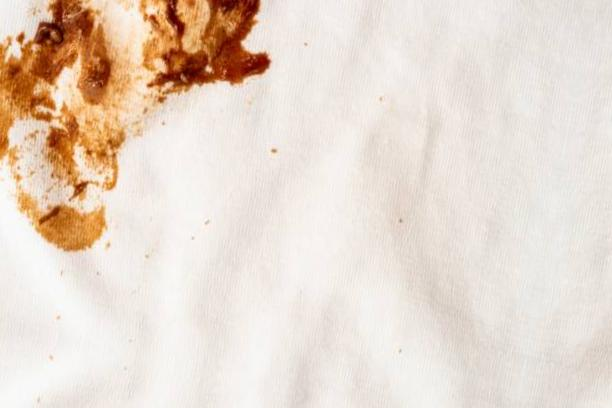stain: (1, 0, 288, 260)
